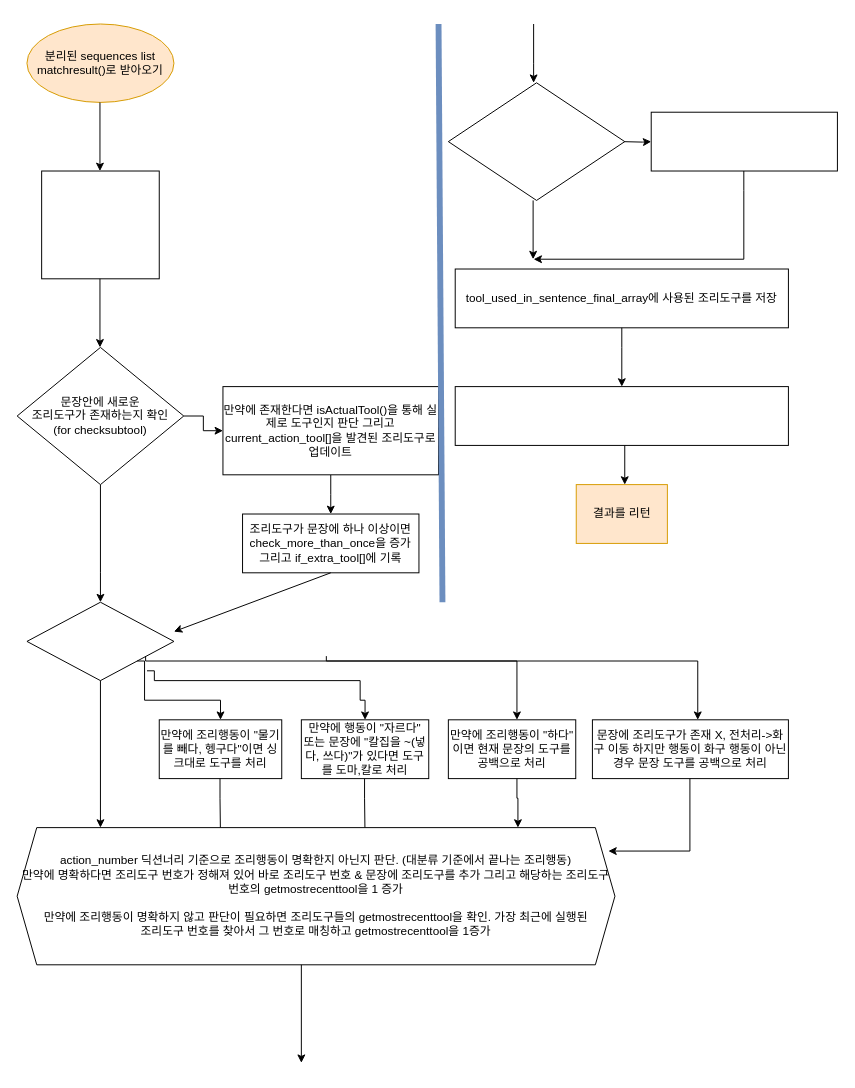
This 855x1088 diagram has some shape labels left out. Here are the shapes that lost their labels. From the top down, the box of each, then its label:
(447, 82, 625, 200): check_more_than_once을 확인하여 하나 이상의 조리도구인지 확인
(650, 111, 837, 171): 하나 이상이 맞다면 if_extra_tool[]에 저장되어 있는 추가 도구를 tool_used in sentence_final_array에 추가
(41, 170, 159, 279): matchwithtool에 필요한 변수들 선언 도구조리 번호 행동 번호 문장 조리존 문장 재료 & 시즈닝 문장 행동
(454, 386, 788, 445): 문장중에 조리도구가 없는 문장이 존재한다면 그 뒤 문장을 기준으로 조리도구를 찾고 없는 문장에 적용
(26, 601, 174, 681): 문장의 조리 행동을 확인
